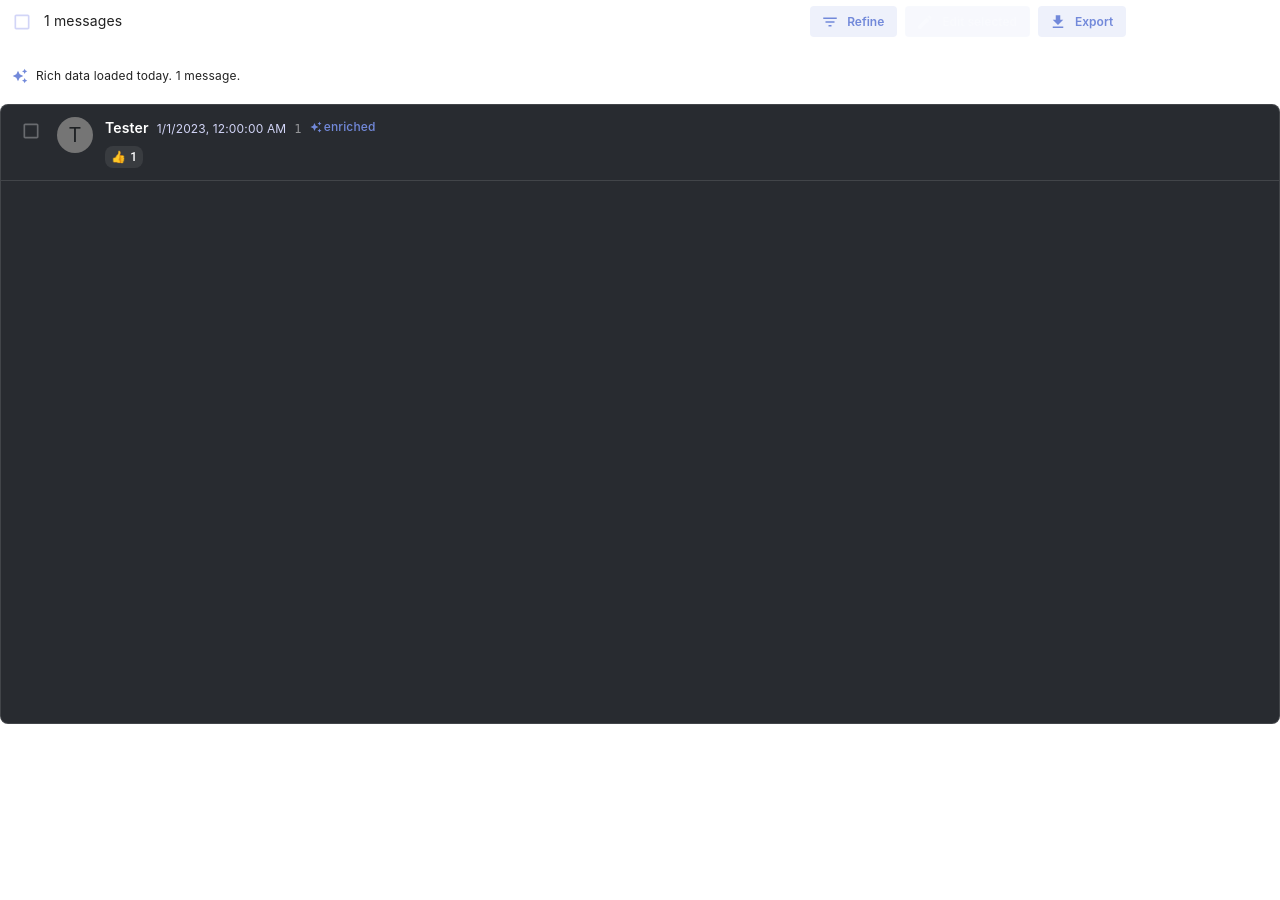
it: <PackageMessageTable /> › opens reactor modal with "User list not available" fallback when there is no auth token
The image size is (1280, 900).
Click the button with test id "package-reaction-chip" at (124, 157), box [105, 146, 143, 168]
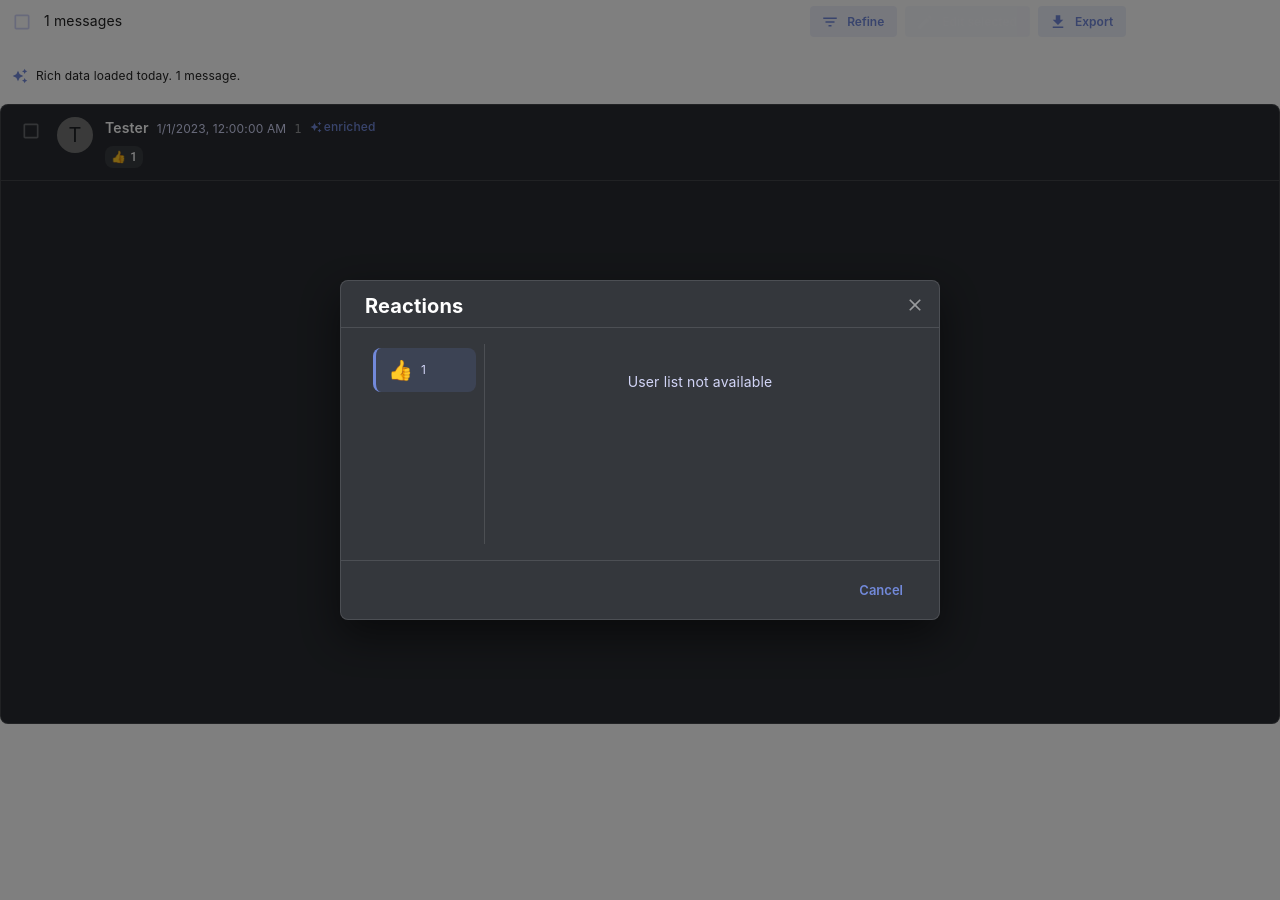
Expected: the text "User list not available" is shown, [628, 372, 772, 392]
